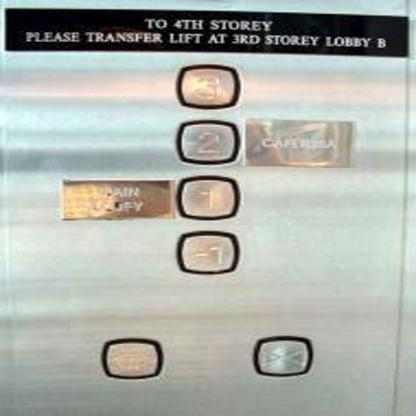-1: (172, 228, 242, 276)
1: (172, 172, 242, 220)
2: (174, 117, 244, 167)
3: (172, 62, 242, 111)
blur: (98, 334, 164, 382)
close: (250, 334, 314, 378)
